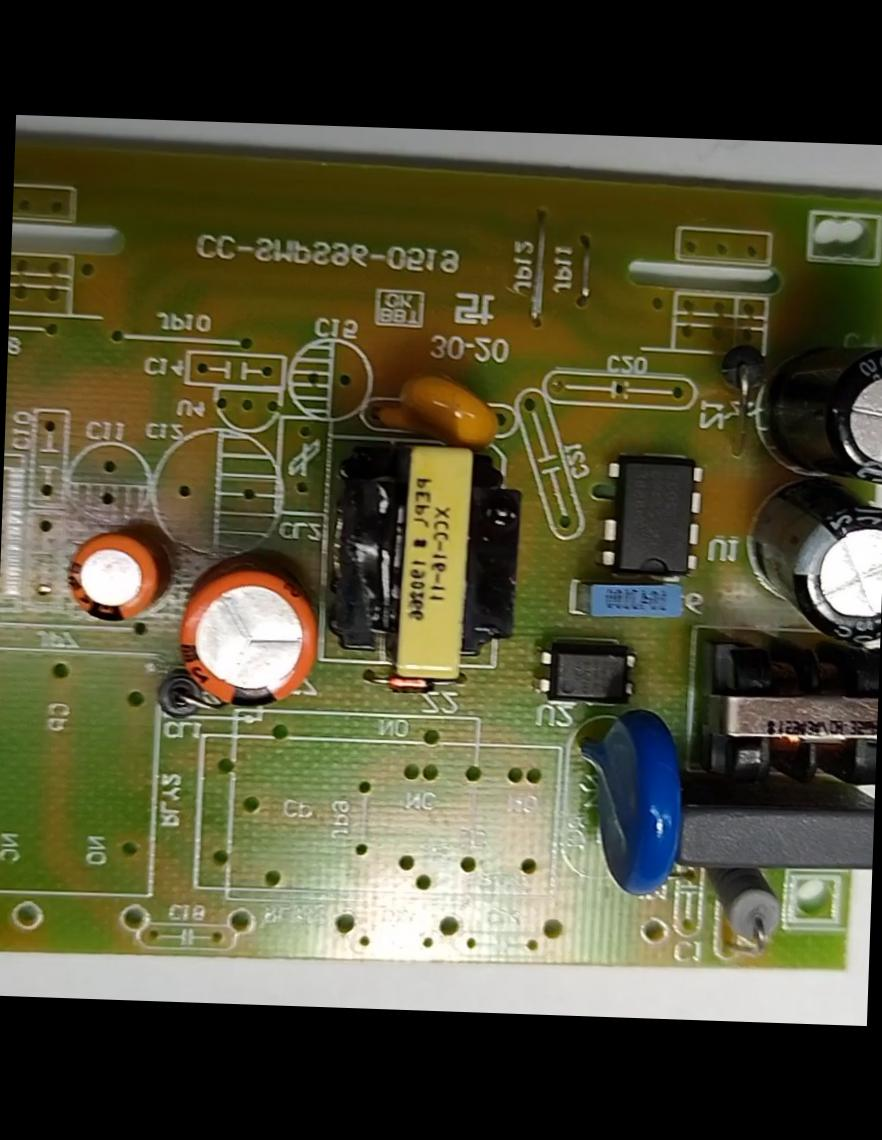Cap1: (165, 564, 327, 714)
Cap2: (57, 526, 171, 638)
Cap3: (744, 484, 881, 644)
Cap4: (756, 341, 881, 488)
MOSFET: (598, 448, 708, 582)
Mov: (567, 706, 694, 904)
Resistor: (699, 859, 784, 955)
Transformer: (322, 436, 530, 688), (688, 636, 878, 794)
